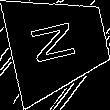N_E: (31, 19, 86, 69)
